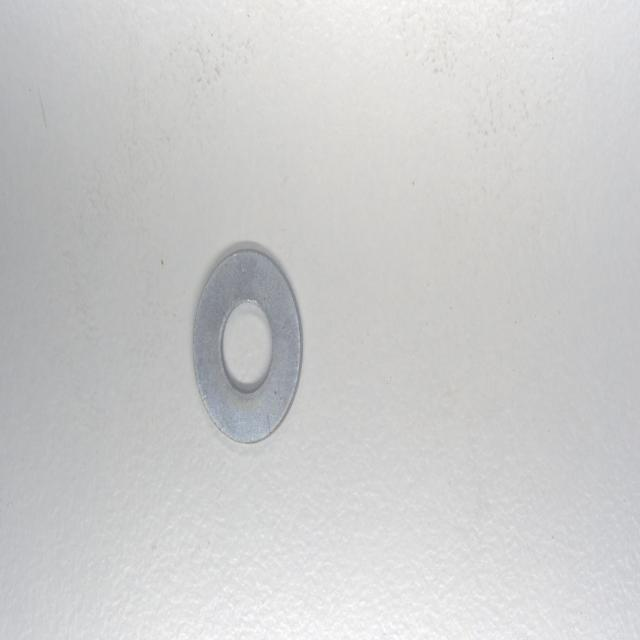washer: (190, 246, 302, 449)
